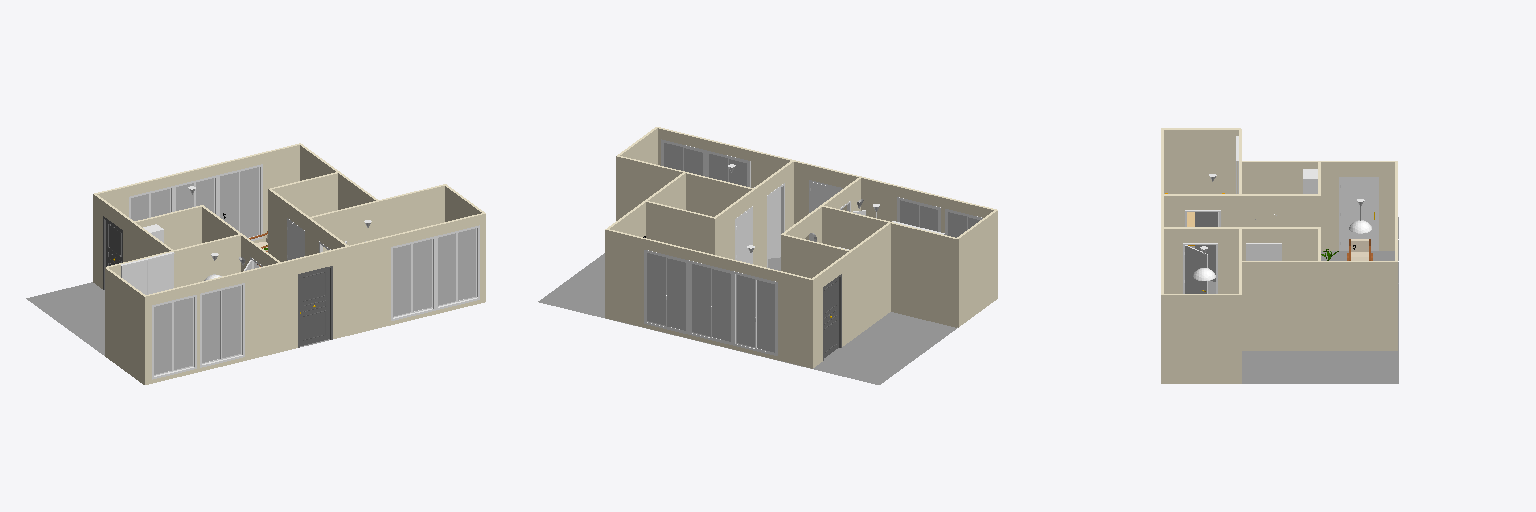
File: casa_prueba.obj
The picture shows the model from 3 angles: view 1: azimuth 30°, elevation 25°; view 2: azimuth 150°, elevation 25°; view 3: azimuth 270°, elevation 25°; orthographic projection.
Visible parts, largest first — view 1: wall_6_35, wall_2_11, wall_8_46, wall_1_5, wall_13_77, wall_5_29, ground_1, wall_4_22, 308, wall_15_88, wall_12_70, wall_11_64 (+25 smaller); view 2: wall_13_76, ground_1, wall_4_23, wall_8_47, wall_1_5, wall_17_101, wall_15_89, wall_2_10, wall_12_70, wall_6_34, wall_9_53, wall_11_65 (+17 smaller); view 3: wall_7_41, wall_14_82, wall_18_106, ground_1, wall_1_4, wall_12_71, wall_9_52, wall_17_100, wall_10_59, Door_Porte_355, wall_3_17, wall_16_94 (+2 smaller).
Part boxes in pixels (x1,y1,x2,y2): wall_6_35: (349, 214, 485, 335); wall_2_11: (145, 264, 282, 384); wall_8_46: (312, 186, 444, 251); wall_1_5: (105, 268, 144, 384); wall_13_77: (97, 145, 299, 242); wall_5_29: (281, 247, 348, 351); ground_1: (26, 262, 329, 355); wall_4_22: (109, 235, 240, 287); 308: (300, 268, 329, 345); wall_15_88: (272, 173, 337, 216); wall_12_70: (93, 194, 132, 288); wall_11_64: (136, 207, 201, 249); wall_13_76: (605, 230, 812, 368); ground_1: (538, 253, 957, 384); wall_4_23: (822, 207, 956, 327); wall_8_47: (616, 156, 751, 220); wall_1_5: (957, 211, 997, 327); wall_17_101: (853, 223, 890, 338); wall_15_89: (646, 202, 714, 254); wall_2_10: (861, 178, 993, 232); wall_12_70: (813, 251, 852, 367); wall_6_34: (658, 128, 789, 187); wall_9_53: (755, 162, 793, 267); wall_11_65: (781, 235, 848, 278); wall_7_41: (1161, 295, 1241, 383); wall_14_82: (1318, 262, 1397, 350); wall_18_106: (1242, 262, 1318, 350); ground_1: (1190, 217, 1398, 383); wall_1_4: (1164, 130, 1238, 193); wall_12_71: (1321, 162, 1394, 250); wall_9_52: (1164, 229, 1238, 293); wall_17_100: (1242, 162, 1317, 226); wall_10_59: (1241, 196, 1320, 226); Door_Porte_355: (1341, 179, 1376, 250); wall_3_17: (1164, 196, 1241, 226); wall_16_94: (1242, 229, 1317, 260).
Bounding box in the file's own units: 1010 × 250 × 608.